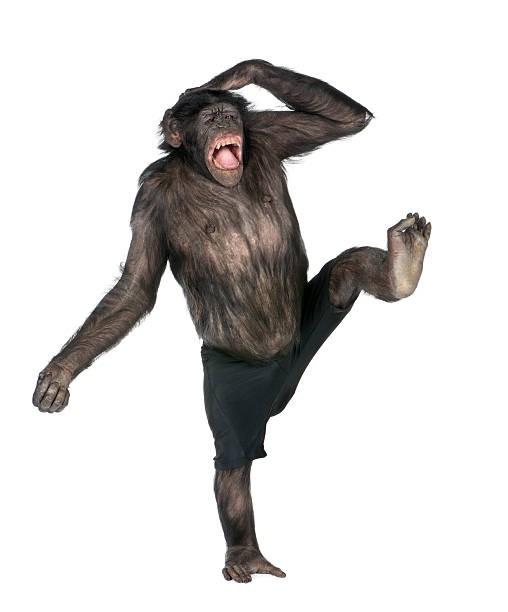chimpanzee: (136, 77, 286, 203)
